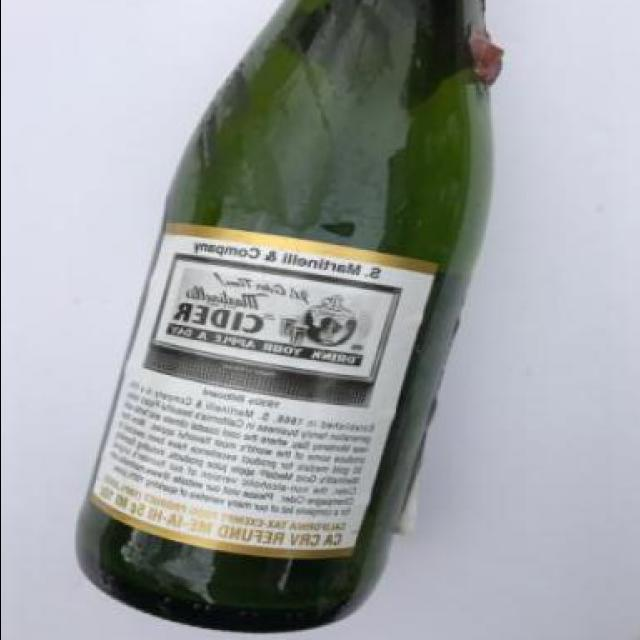kaca: (71, 0, 490, 633)
